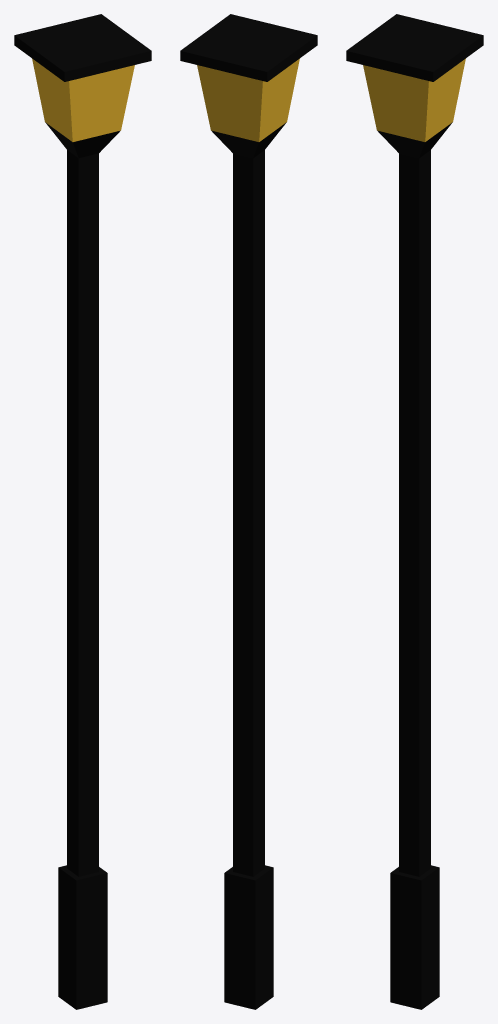
Rendered from CityLamp_02.fbx.
3 views of the same model, side by side, from view 1: azimuth 30°, elevation 25°; view 2: azimuth 150°, elevation 25°; view 3: azimuth 330°, elevation 25° (orthographic).
Visible parts, largest first — view 1: CityLamp_02; view 2: CityLamp_02; view 3: CityLamp_02.
Part boxes in pixels (x1,y1,x2,y2): CityLamp_02: [14, 14, 151, 1009]; CityLamp_02: [180, 14, 317, 1009]; CityLamp_02: [346, 14, 483, 1009].
Bounding box in the file's own units: 0.0513 × 0.5379 × 0.0513.
